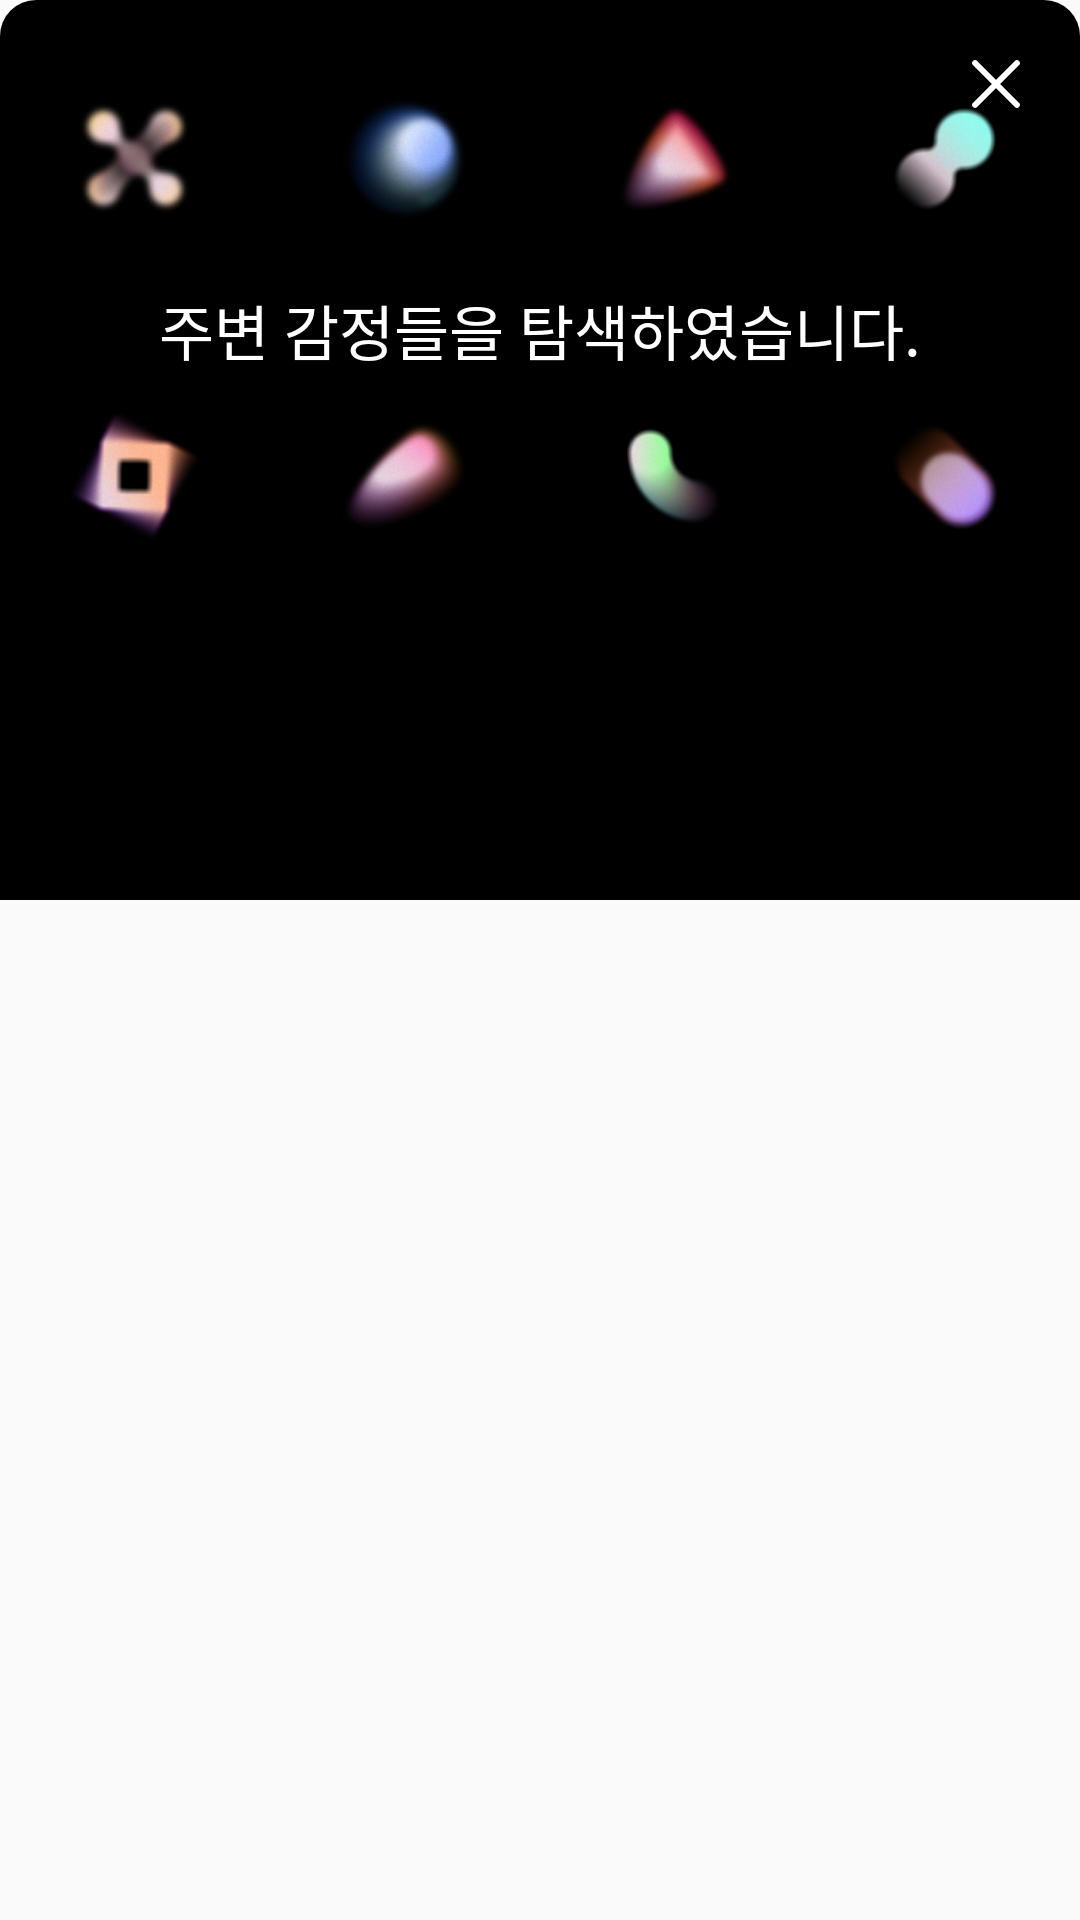

Icon bounding boxes for this 1080x1920 phone screenshot, format {"left": x1, "top": y1, "right": x2, "bottom": y2}:
close: {"left": 972, "top": 60, "right": 1020, "bottom": 108}
